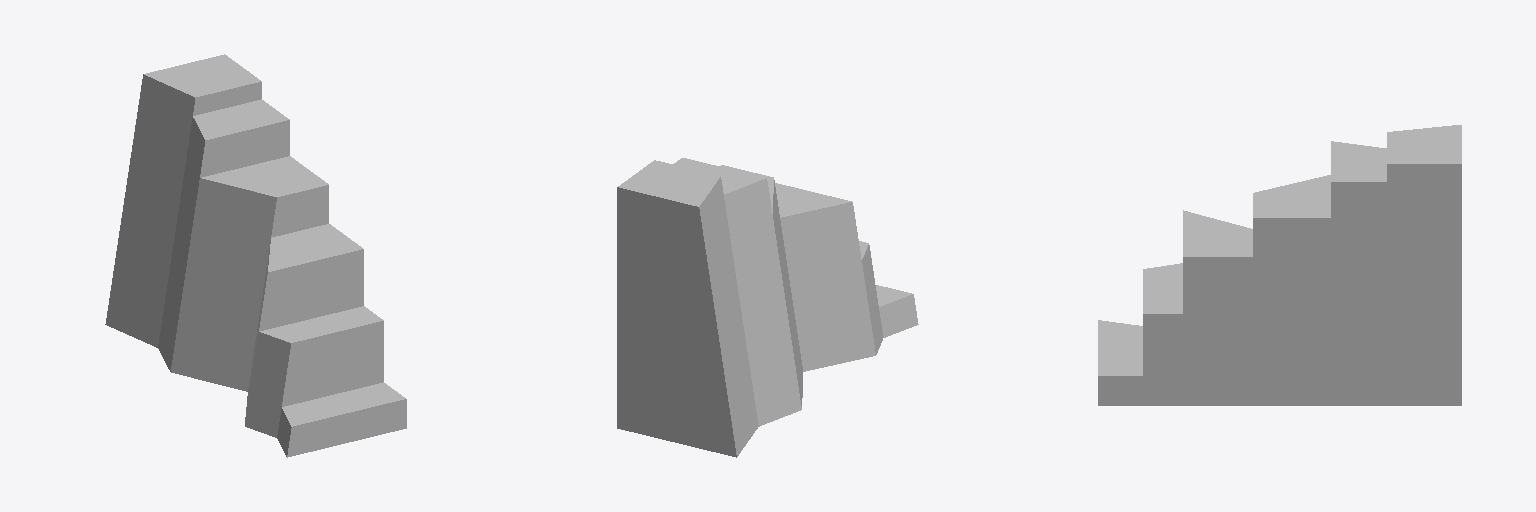
The model's file is Brown_Cliff_End_Green_Top_01.obj.
3 views of the same model, side by side, from view 1: azimuth 30°, elevation 25°; view 2: azimuth 150°, elevation 25°; view 3: azimuth 270°, elevation 25° (orthographic).
Visible parts, largest first — view 1: Mesh1_Brown_Cliff_End_Green_Top_Model; view 2: Mesh1_Brown_Cliff_End_Green_Top_Model; view 3: Mesh1_Brown_Cliff_End_Green_Top_Model.
Part boxes in pixels (x1,y1,x2,y2): Mesh1_Brown_Cliff_End_Green_Top_Model: (105,54,406,457); Mesh1_Brown_Cliff_End_Green_Top_Model: (617,158,918,457); Mesh1_Brown_Cliff_End_Green_Top_Model: (1098,125,1461,405).
Size of the model in its own units: 1.14 by 2.2 by 3.